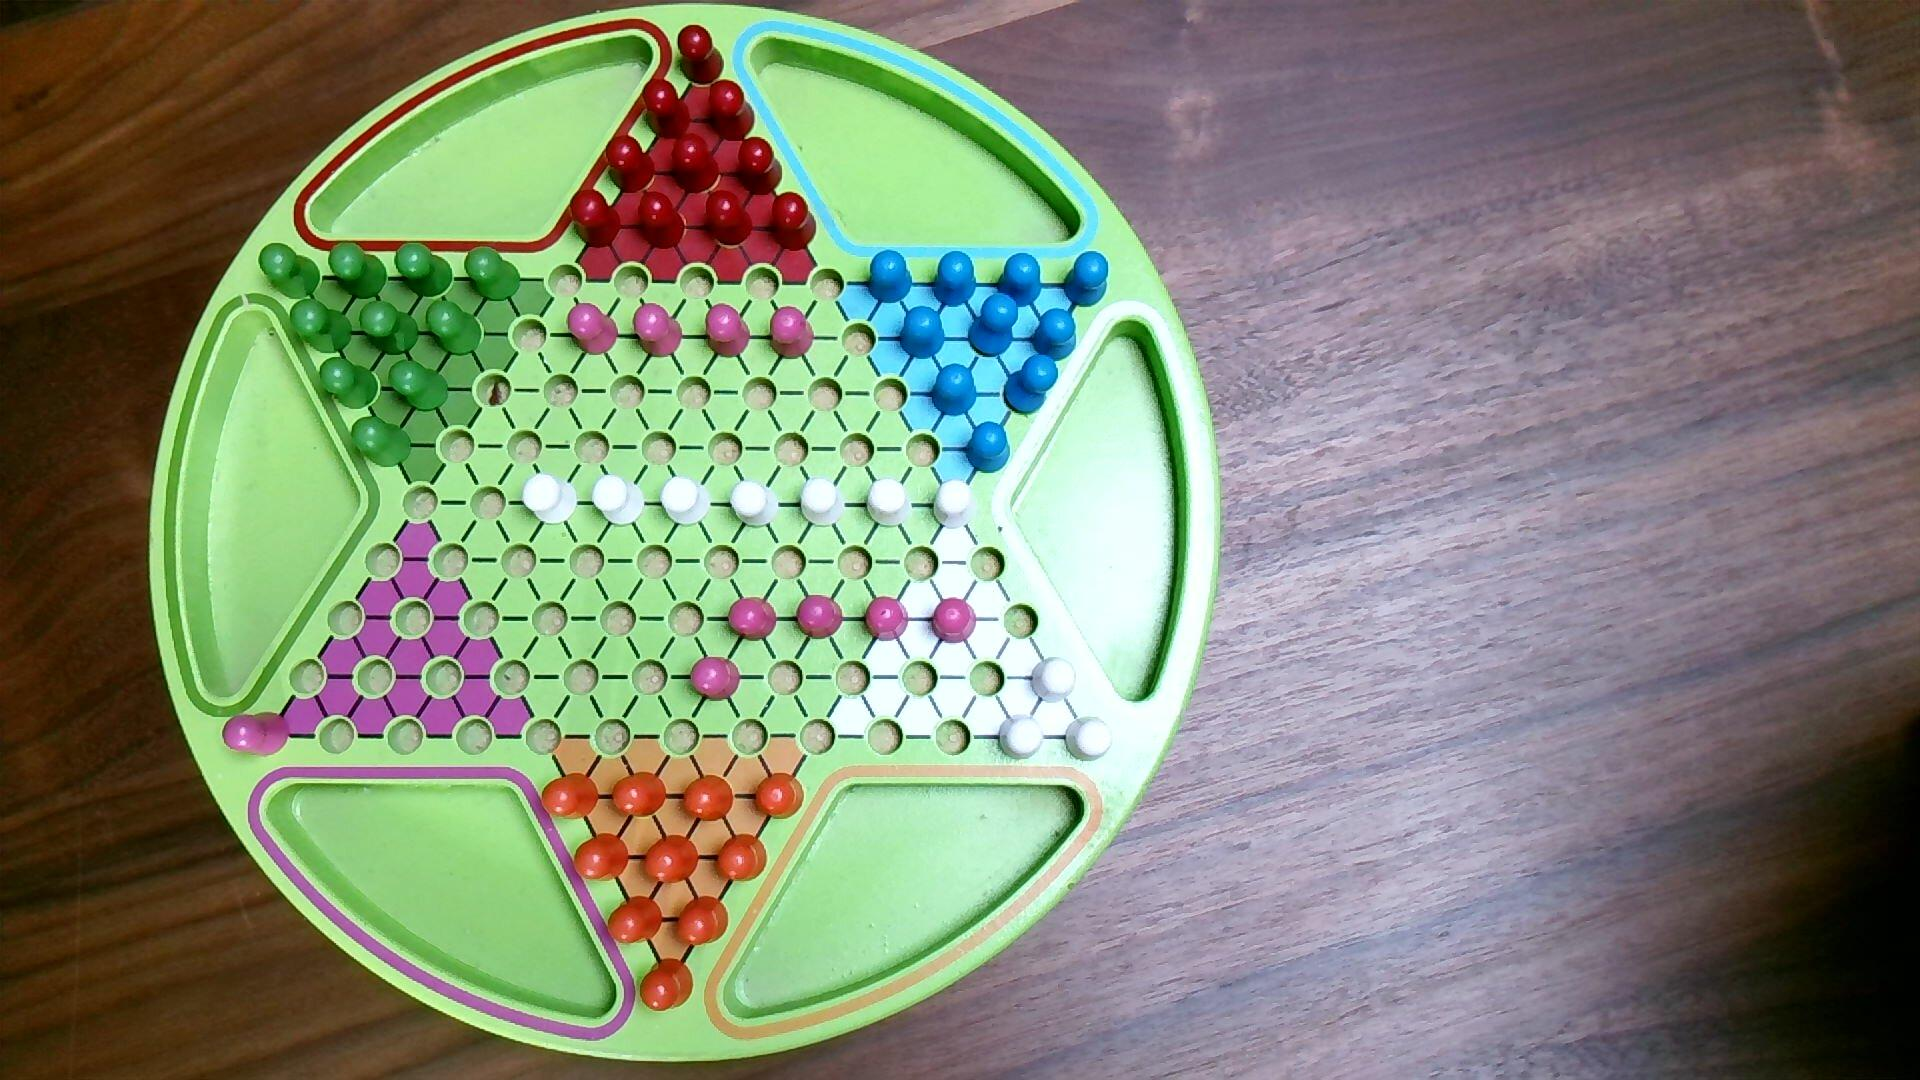B: (1004, 353, 1062, 418), (967, 291, 1021, 360), (1062, 249, 1112, 310), (930, 249, 978, 309), (928, 363, 978, 419), (898, 305, 947, 363), (996, 252, 1044, 310), (1029, 309, 1079, 363), (964, 419, 1011, 476), (866, 249, 914, 306)
G: (327, 240, 389, 302), (257, 241, 322, 301), (289, 297, 353, 356), (393, 240, 455, 301), (386, 357, 452, 414), (425, 298, 487, 357), (357, 299, 421, 357), (464, 244, 524, 305), (318, 355, 381, 411), (349, 415, 415, 469)
O: (638, 957, 696, 1015), (571, 829, 632, 885), (640, 833, 702, 887), (673, 894, 731, 949), (541, 771, 603, 823), (607, 894, 665, 947), (680, 773, 737, 825), (611, 770, 669, 822), (713, 833, 771, 885), (752, 770, 807, 822)
R: (640, 76, 692, 142), (568, 189, 624, 251), (670, 132, 723, 196), (705, 78, 757, 144), (676, 22, 727, 87), (604, 135, 657, 195), (735, 135, 785, 198), (637, 190, 688, 251), (770, 191, 818, 255), (705, 189, 756, 248)
R2: (222, 711, 291, 760), (564, 301, 620, 357), (632, 301, 684, 360), (767, 305, 818, 363), (704, 302, 753, 361), (688, 655, 744, 704), (794, 593, 847, 642), (727, 595, 779, 644), (930, 596, 978, 647), (862, 595, 911, 645)
W: (520, 472, 582, 527), (591, 473, 647, 529), (658, 473, 713, 529), (729, 477, 782, 531), (931, 477, 980, 531), (798, 476, 847, 530), (865, 477, 914, 530), (1063, 715, 1116, 764), (997, 712, 1046, 762), (1029, 655, 1077, 705)
